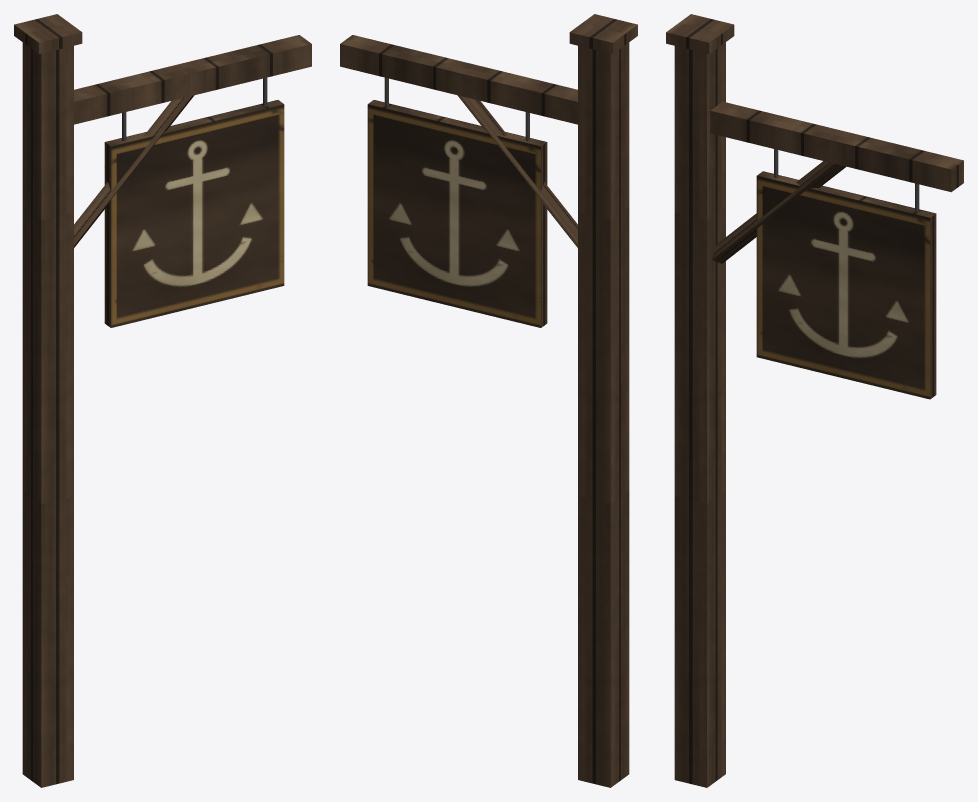
Rendered from Sign_Service_port_LOD1.gltf.
The picture shows the model from 3 angles, left to right: view 1: azimuth 30°, elevation 25°; view 2: azimuth 150°, elevation 25°; view 3: azimuth 330°, elevation 25°; orthographic projection.
Visible parts, largest first — view 1: Sign_Service_port_LOD1; view 2: Sign_Service_port_LOD1; view 3: Sign_Service_port_LOD1.
Boxes of the visible parts, box(x1,y1,x2,y2) form: Sign_Service_port_LOD1: box(14, 14, 311, 787); Sign_Service_port_LOD1: box(340, 14, 637, 787); Sign_Service_port_LOD1: box(666, 14, 963, 787).
Size of the model in its own units: 1.03 by 2.64 by 0.16.
Materials: 3 (3 with a texture image).
